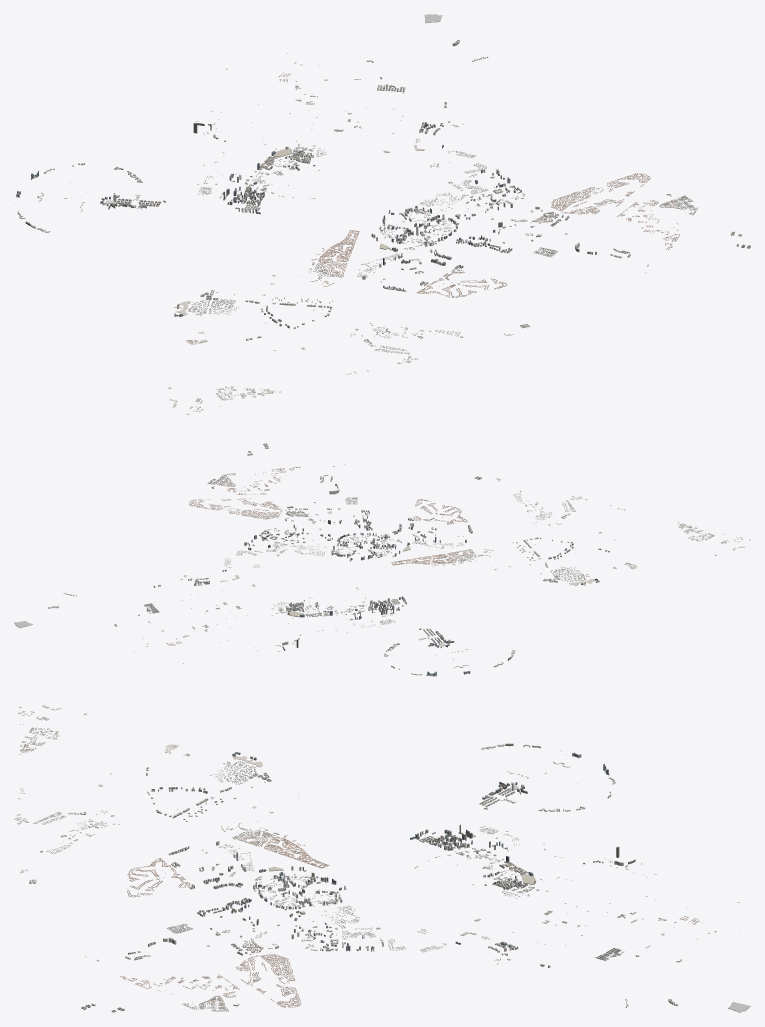
File: city_far.glb
3 renders of one model, top to bottom at view 1: azimuth 30°, elevation 25°; view 2: azimuth 150°, elevation 25°; view 3: azimuth 270°, elevation 25°, orthographic. The views are drawn at different scales.
Parts seen in each view (by area): view 1: bld_walls, bld_roofs; view 2: bld_walls, bld_roofs; view 3: bld_walls, bld_roofs.
Boxes of the visible parts, <box> form: bld_walls: <box>16,20,750,414</box>; bld_roofs: <box>14,14,750,414</box>; bld_walls: <box>14,443,750,676</box>; bld_roofs: <box>14,443,750,675</box>; bld_walls: <box>14,707,750,1012</box>; bld_roofs: <box>14,705,750,1012</box>.
Size of the model in its own units: 21064 by 323 by 21327.
